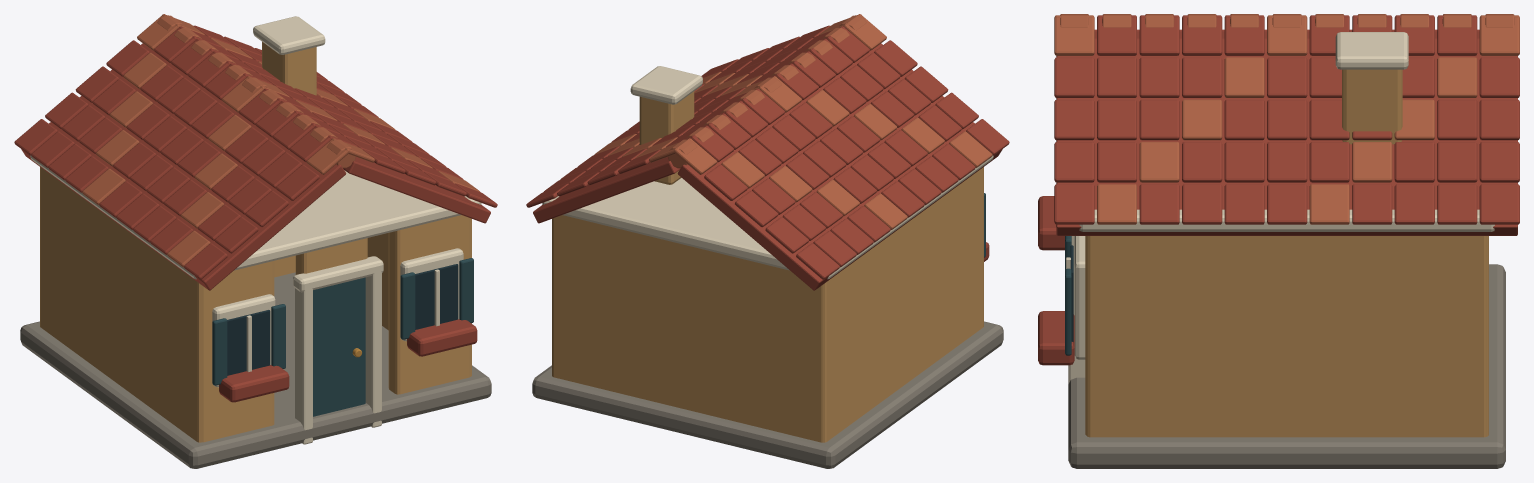
Rendered from casa_runtime.glb.
3 renders of one model, left to right at view 1: azimuth 30°, elevation 25°; view 2: azimuth 150°, elevation 25°; view 3: azimuth 270°, elevation 25°, orthographic. The views are drawn at different scales.
Visible parts, largest first — view 1: Roof_BakedPalette.003, Walls_BakedPalette.003, Details.001, Foundation_BakedPalette.003, OpeningDoor; view 2: Walls_BakedPalette.003, Roof_BakedPalette.003, Foundation_BakedPalette.003; view 3: Roof_BakedPalette.003, Walls_BakedPalette.003, Foundation_BakedPalette.003, Details.001.
Part boxes in pixels (x1,y1,x2,y2): Roof_BakedPalette.003: [14, 14, 497, 290]; Walls_BakedPalette.003: [30, 155, 481, 442]; Details.001: [212, 248, 477, 444]; Foundation_BakedPalette.003: [20, 272, 491, 468]; OpeningDoor: [313, 278, 363, 416]; Walls_BakedPalette.003: [542, 155, 993, 442]; Roof_BakedPalette.003: [526, 14, 1009, 290]; Foundation_BakedPalette.003: [532, 321, 1003, 468]; Roof_BakedPalette.003: [1054, 14, 1519, 235]; Walls_BakedPalette.003: [1079, 209, 1494, 437]; Foundation_BakedPalette.003: [1068, 264, 1505, 468]; Details.001: [1038, 196, 1085, 383].
Bounding box in the file's own units: 3.6 × 3.42 × 3.96.
